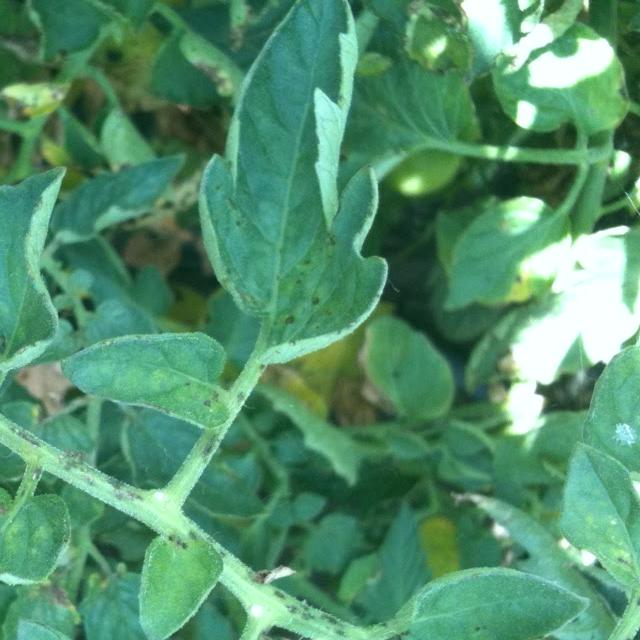Tomato leaf bacterial spot: (190, 0, 420, 360), (30, 301, 261, 442), (333, 554, 593, 640), (0, 477, 79, 640), (5, 615, 199, 640)
